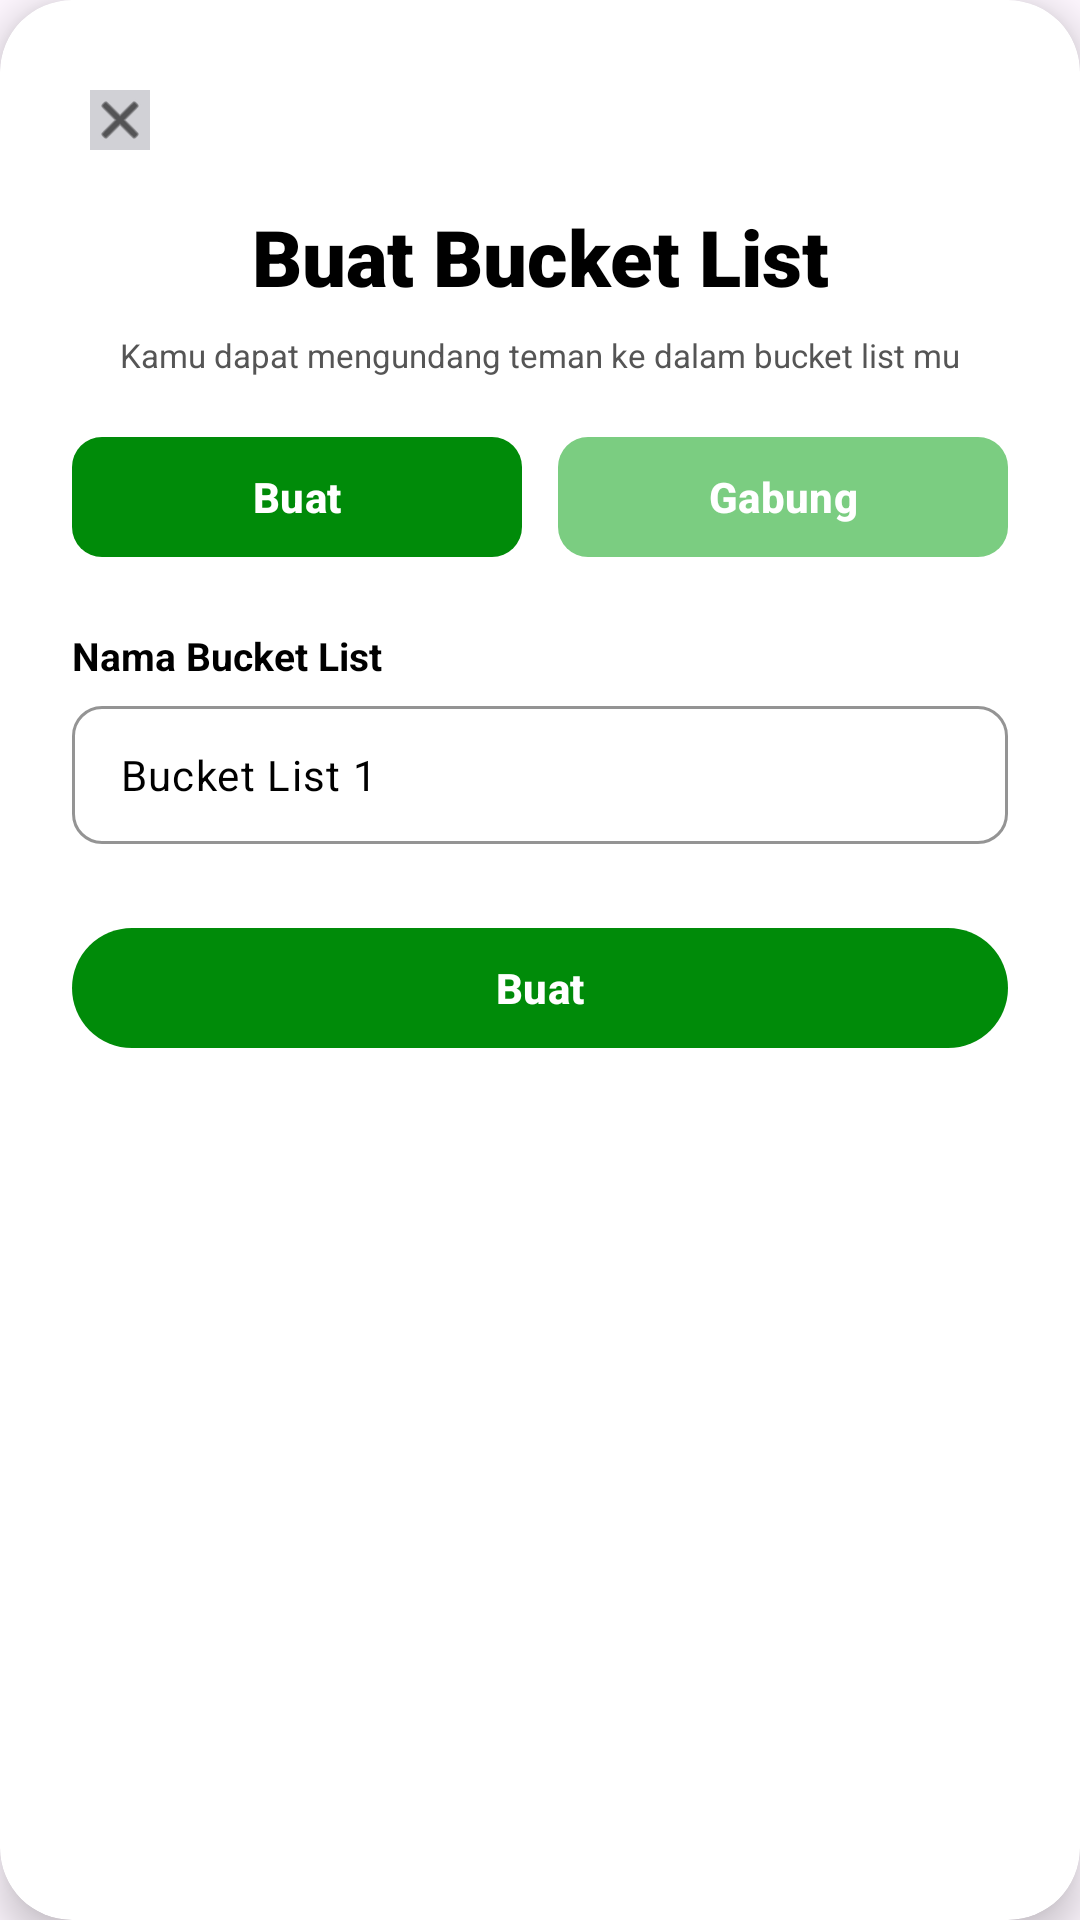

Where to tap for icons on this 1080x1920 app screen, as (x=x, y=y):
close clear cancel: (x=120, y=120)
